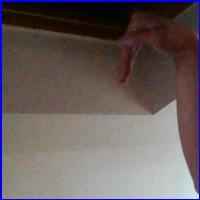A: (115, 4, 180, 87)
